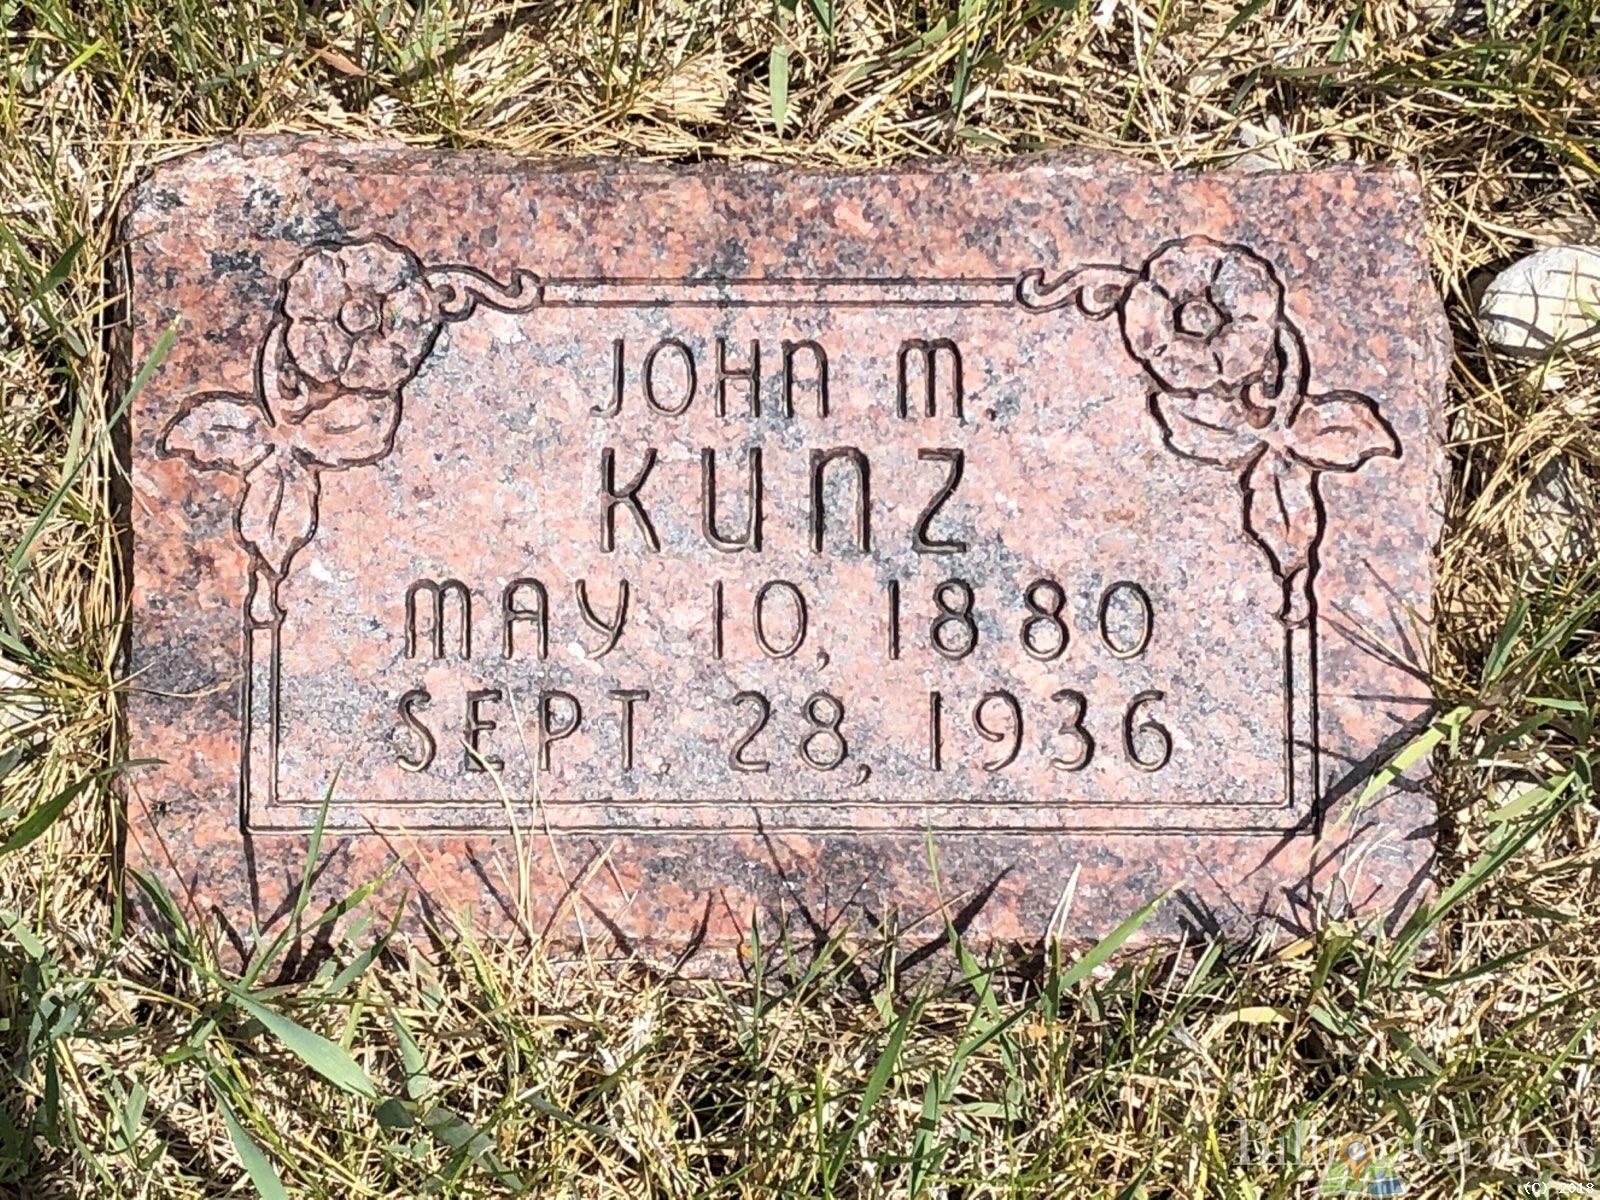flat: (116, 142, 1445, 968)
